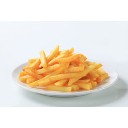frenchfries: (20, 45, 108, 90)
